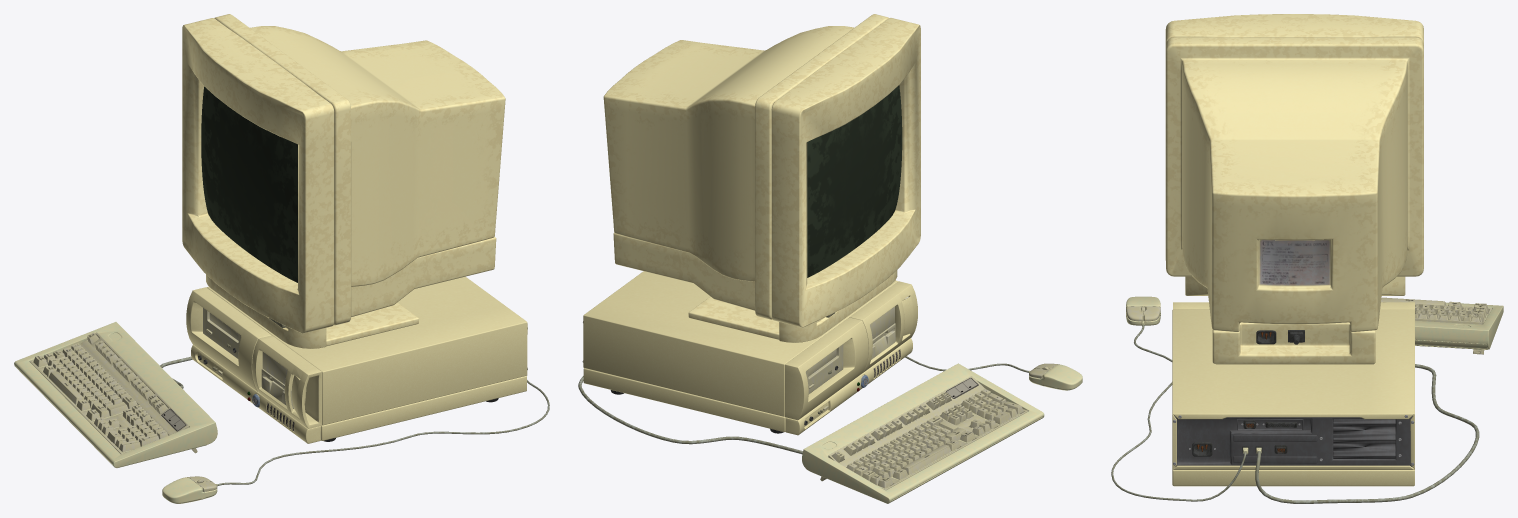
The model's file is Computer.glb.
3 views of the same model, side by side, from view 1: azimuth 30°, elevation 25°; view 2: azimuth 150°, elevation 25°; view 3: azimuth 270°, elevation 25° (orthographic). The views are drawn at different scales.
Parts seen in each view (by area): view 1: monik2_Material.018_0, bloc2_Material.017_0, keyboard2_Material.021_0, Keycaps2_Material.022_0; view 2: monik2_Material.018_0, bloc2_Material.017_0, keyboard2_Material.021_0, Keycaps2_Material.022_0; view 3: monik2_Material.018_0, bloc2_Material.017_0, panel2_Material.020_0, keyboard2_Material.021_0, Keycaps2_Material.022_0, object 7.
Part boxes in pixels (x1,y1,x2,y2): monik2_Material.018_0: [182, 14, 505, 348]; bloc2_Material.017_0: [186, 276, 527, 443]; keyboard2_Material.021_0: [14, 322, 549, 503]; Keycaps2_Material.022_0: [33, 332, 168, 452]; monik2_Material.018_0: [603, 14, 920, 342]; bloc2_Material.017_0: [583, 271, 917, 435]; keyboard2_Material.021_0: [578, 356, 1082, 503]; Keycaps2_Material.022_0: [832, 389, 1023, 488]; monik2_Material.018_0: [1165, 14, 1423, 364]; bloc2_Material.017_0: [1172, 302, 1414, 486]; panel2_Material.020_0: [1174, 415, 1412, 466]; keyboard2_Material.021_0: [1111, 296, 1503, 503]; Keycaps2_Material.022_0: [1381, 297, 1488, 322]; object 7: [1192, 330, 1304, 456].
Bounding box in the file's own units: 0.9638 × 0.7723 × 0.7633.
6 materials, 6 textured.
